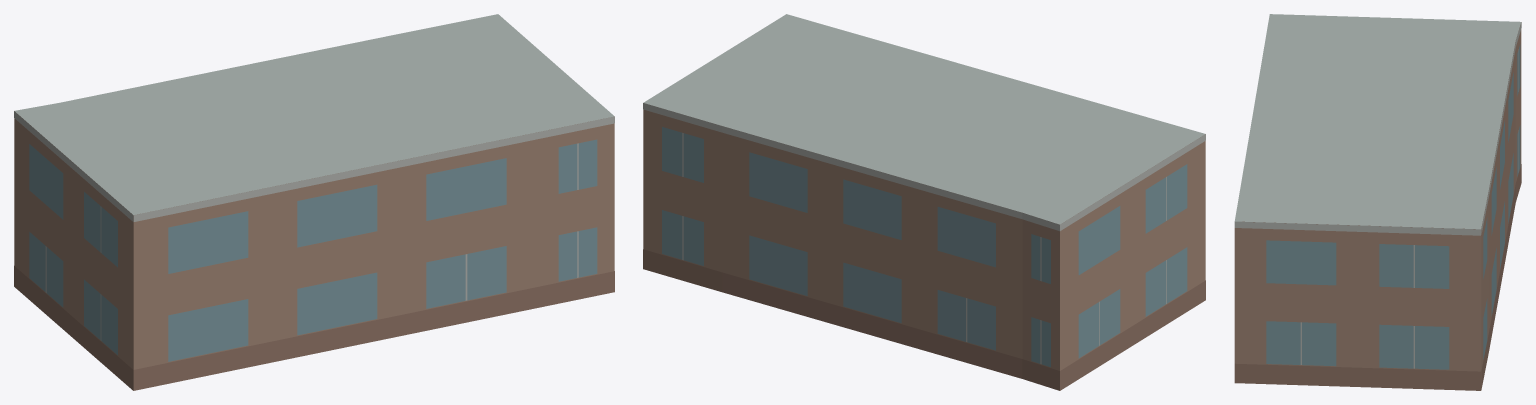
File: survey-upis-32871355.glb
3 renders of one model, left to right at view 1: azimuth 30°, elevation 25°; view 2: azimuth 150°, elevation 25°; view 3: azimuth 270°, elevation 25°, orthographic. The views are drawn at different scales.
Parts seen in each view (by area): view 1: survey-upis-32871355.tmp; view 2: survey-upis-32871355.tmp; view 3: survey-upis-32871355.tmp.
Boxes of the visible parts, box(x1,y1,x2,y2) form: survey-upis-32871355.tmp: box(14, 14, 614, 390); survey-upis-32871355.tmp: box(643, 14, 1205, 390); survey-upis-32871355.tmp: box(1234, 14, 1521, 390).
Bounding box in the file's own units: 17.44 × 6.1 × 9.82.
